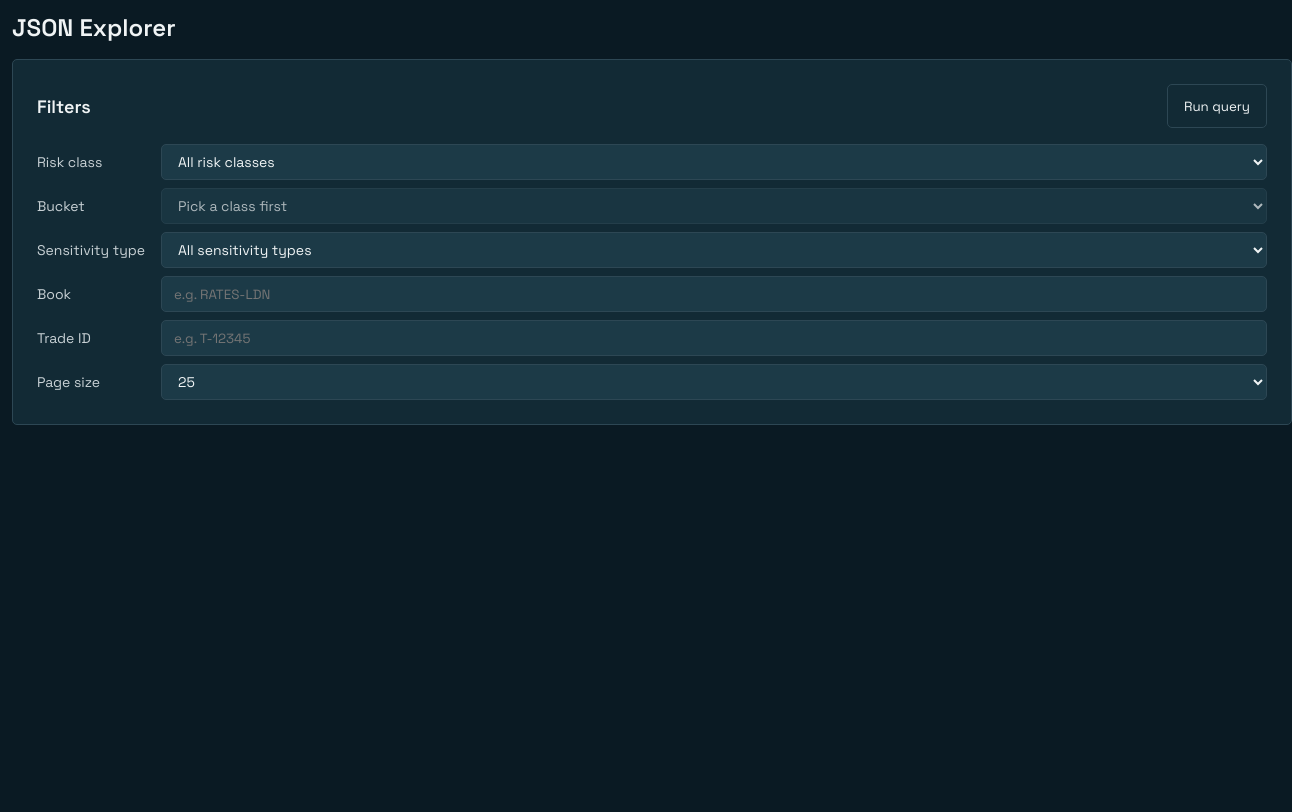
Scenario: JsonExplorerPanel › renders the empty-result state when total=0
Step 1. Click the button "Run query" → [1217, 106], box [1167, 84, 1267, 128]
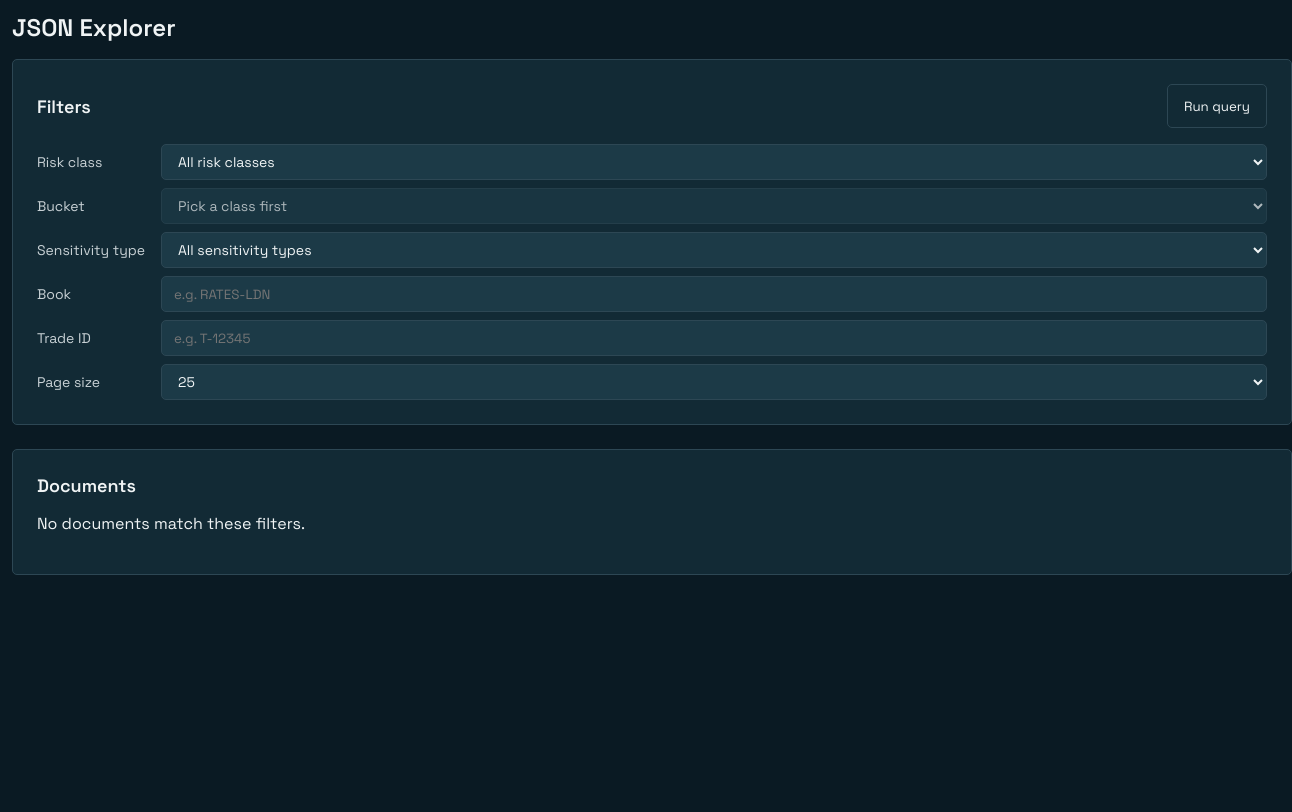
Result: the text "No documents match these filters." is shown at [37, 513, 305, 534]
